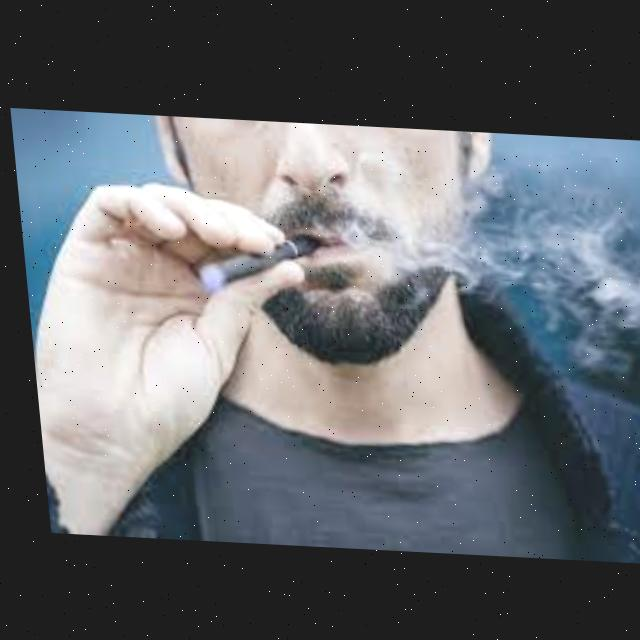vape: (189, 229, 318, 298)
